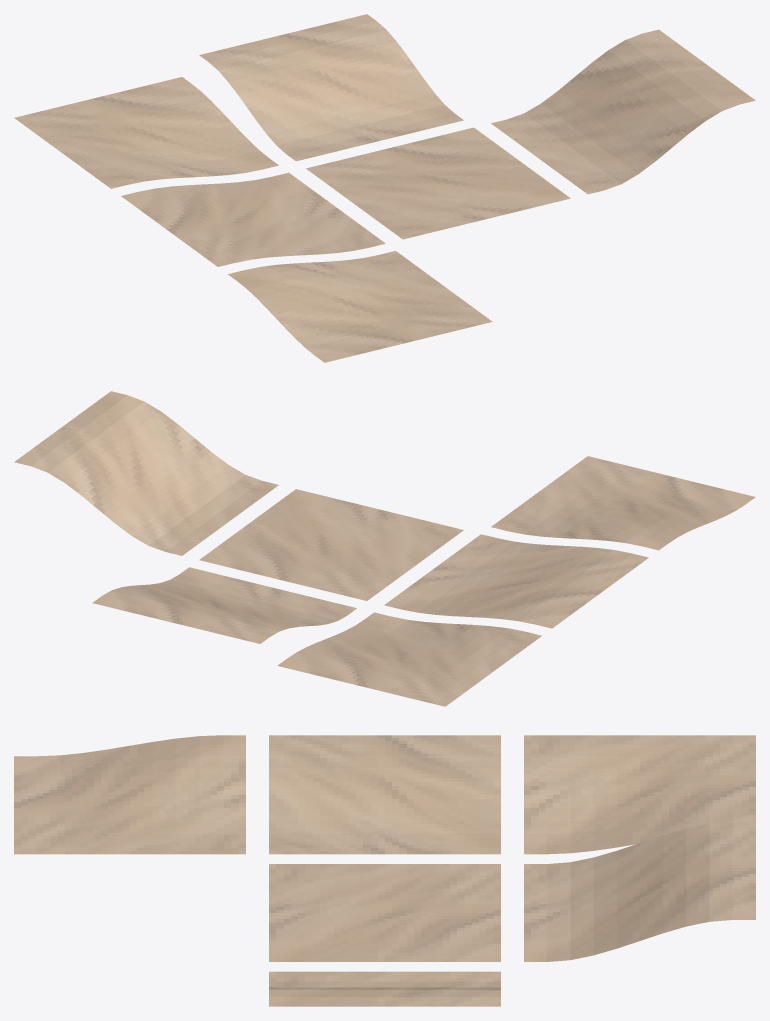
The model's file is sand_tiles2.glb.
3 views of the same model, one above another, from view 1: azimuth 30°, elevation 25°; view 2: azimuth 150°, elevation 25°; view 3: azimuth 270°, elevation 25° (orthographic). The views are drawn at different scales.
Parts seen in each view (by area): view 1: hill2-col, hill3-col, hill1-outerCorner-col, hill1-innerCorner-col, normal-col, hill1-col; view 2: hill3-col, normal-col, hill1-col, hill1-outerCorner-col, hill1-innerCorner-col, hill2-col; view 3: hill1-col, hill1-outerCorner-col, hill1-innerCorner-col, hill2-col, normal-col, hill3-col.
Boxes of the visible parts, box(x1,y1,x2,y2) form: hill2-col: box(199, 14, 463, 161); hill3-col: box(491, 29, 755, 194); hill1-outerCorner-col: box(228, 251, 492, 362); hill1-innerCorner-col: box(14, 77, 278, 188); normal-col: box(306, 127, 570, 239); hill1-col: box(121, 172, 385, 266); hill3-col: box(14, 391, 278, 555); normal-col: box(199, 489, 463, 600); hill1-col: box(384, 534, 648, 628); hill1-outerCorner-col: box(491, 456, 755, 550); hill1-innerCorner-col: box(277, 612, 541, 706); hill2-col: box(92, 567, 356, 643); hill1-col: box(269, 735, 500, 854); hill1-outerCorner-col: box(14, 735, 245, 854); hill1-innerCorner-col: box(524, 735, 755, 854); hill2-col: box(524, 822, 755, 961); normal-col: box(269, 864, 500, 961); hill3-col: box(269, 971, 500, 1006).
Size of the model in its own units: 32 by 3 by 32.
1 material, 1 textured.
